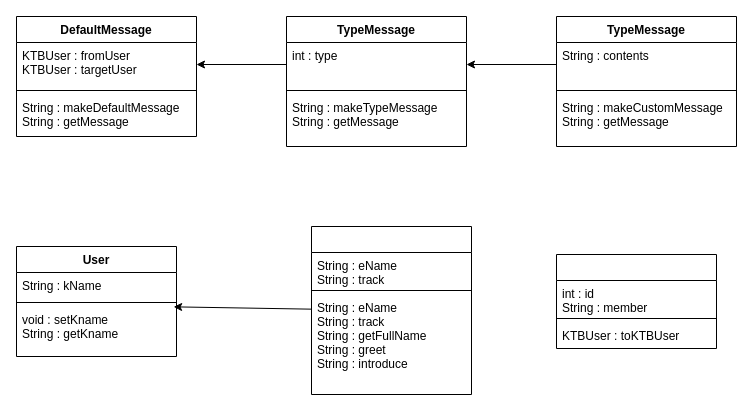
This 753x411 diagram has some shape labels left out. The box of each missing label's shape, as (x1, y1, x2, y2) in pixels:
CLI_User: (556, 254, 716, 348)
KTBUser: (310, 226, 472, 394)
